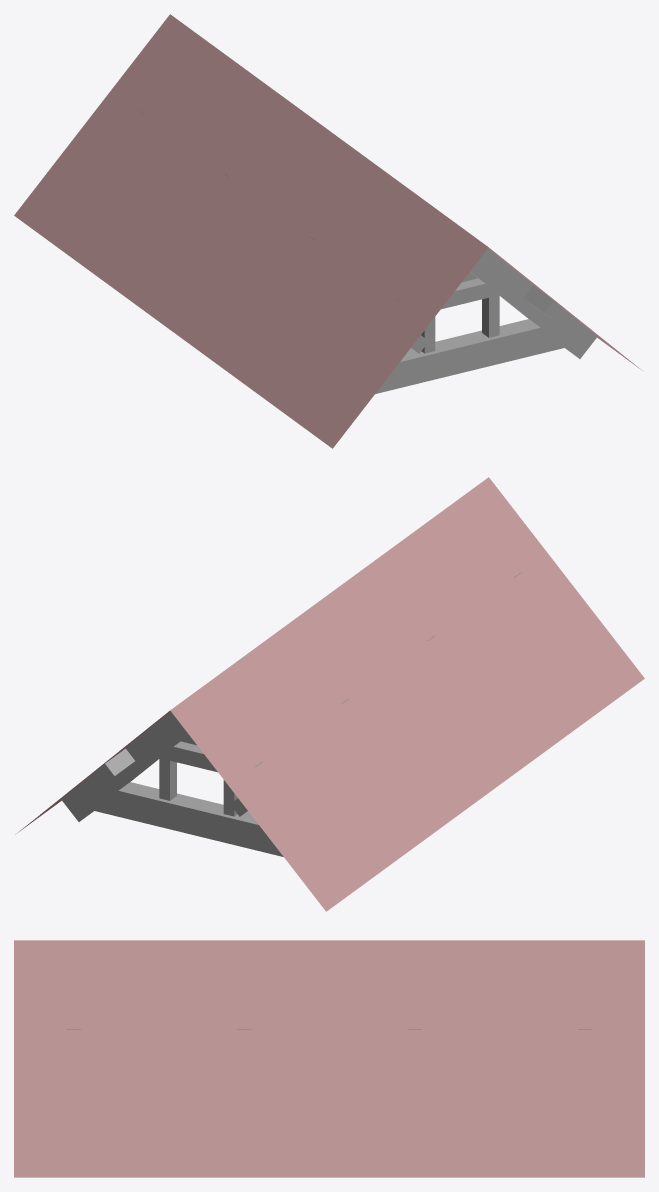
File: Rafters.fbx
3 views of the same model, one above another, from view 1: azimuth 30°, elevation 25°; view 2: azimuth 150°, elevation 25°; view 3: azimuth 270°, elevation 25° (orthographic).
Visible parts, largest first — view 1: Roof, RoofBeam3; view 2: Roof, RoofBeam3; view 3: Roof.
Part boxes in pixels (x1,y1,x2,y2): Roof: (14,14,643,448); RoofBeam3: (137,109,597,393); Roof: (15,477,644,911); RoofBeam3: (61,572,521,856); Roof: (14,940,644,1177).
Bounding box in the file's own units: 12.56 × 6.28 × 22.2.
